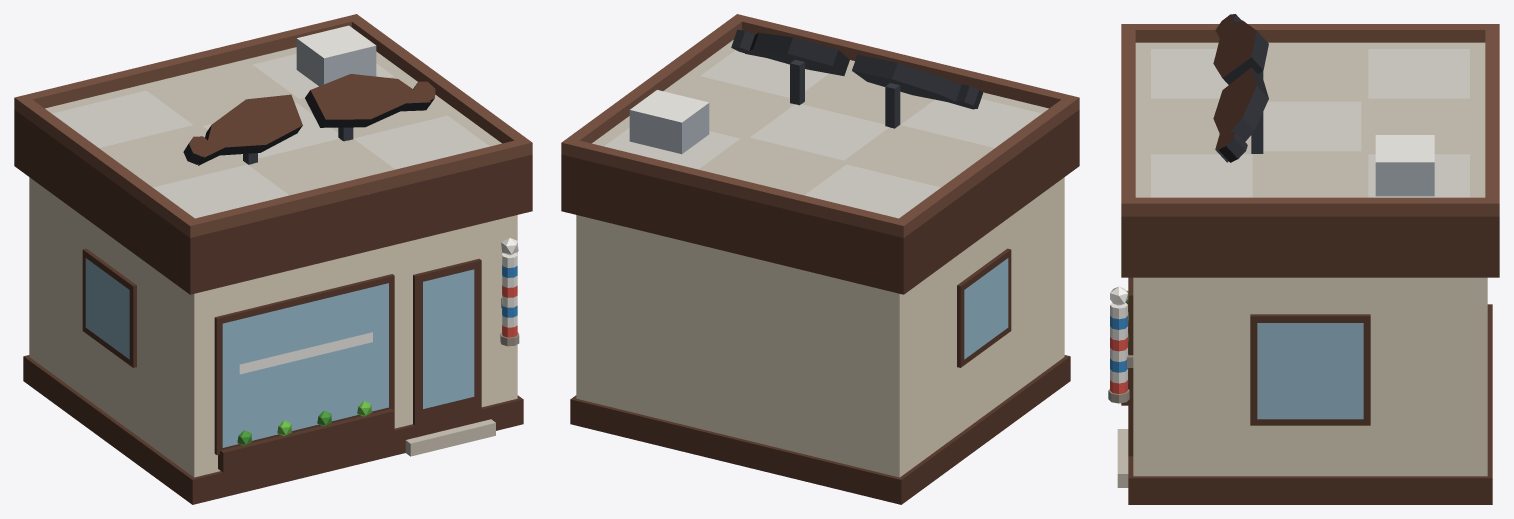
File: B_Barber.fbx
3 renders of one model, left to right at view 1: azimuth 30°, elevation 25°; view 2: azimuth 150°, elevation 25°; view 3: azimuth 270°, elevation 25°, orthographic. The views are drawn at different scales.
Parts seen in each view (by area): view 1: B_Barber; view 2: B_Barber; view 3: B_Barber.
Boxes of the visible parts, x1,y1,x2,y2 form: B_Barber: [14, 14, 532, 504]; B_Barber: [561, 14, 1079, 504]; B_Barber: [1108, 14, 1499, 504].
Bounding box in the file's own units: 3.6 × 3.36 × 3.31.
